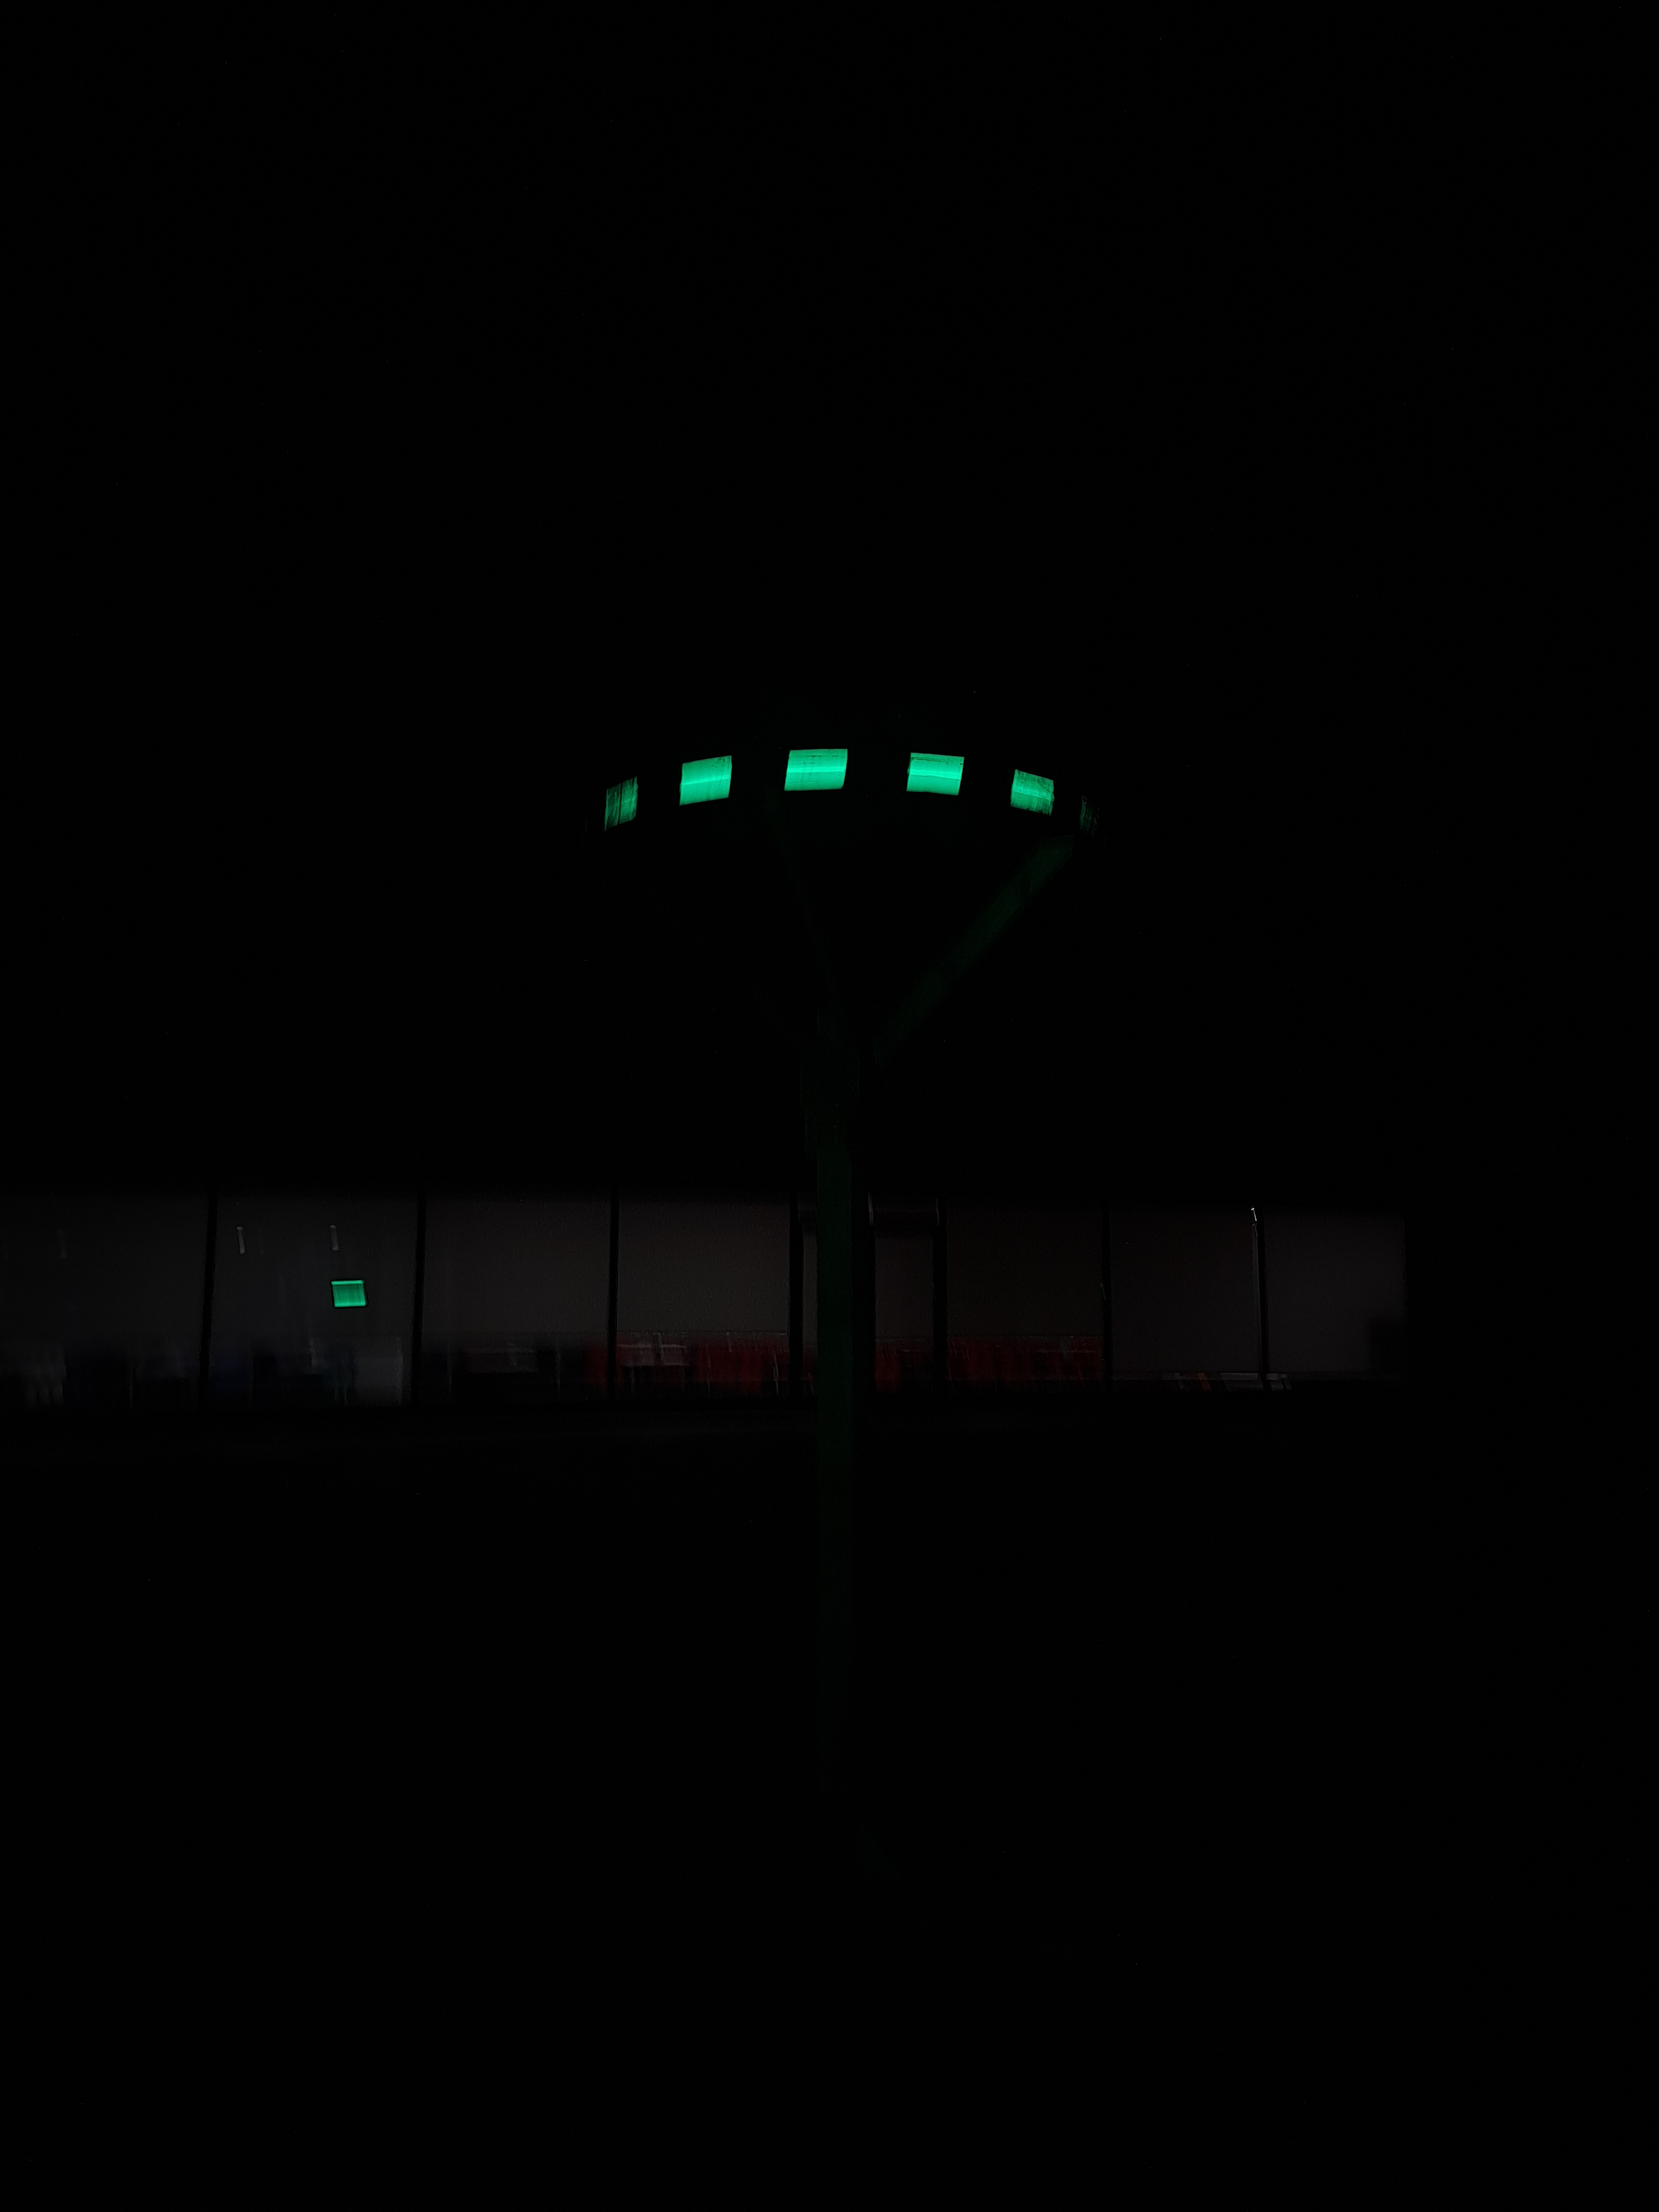hoop: (605, 749, 1061, 831)
